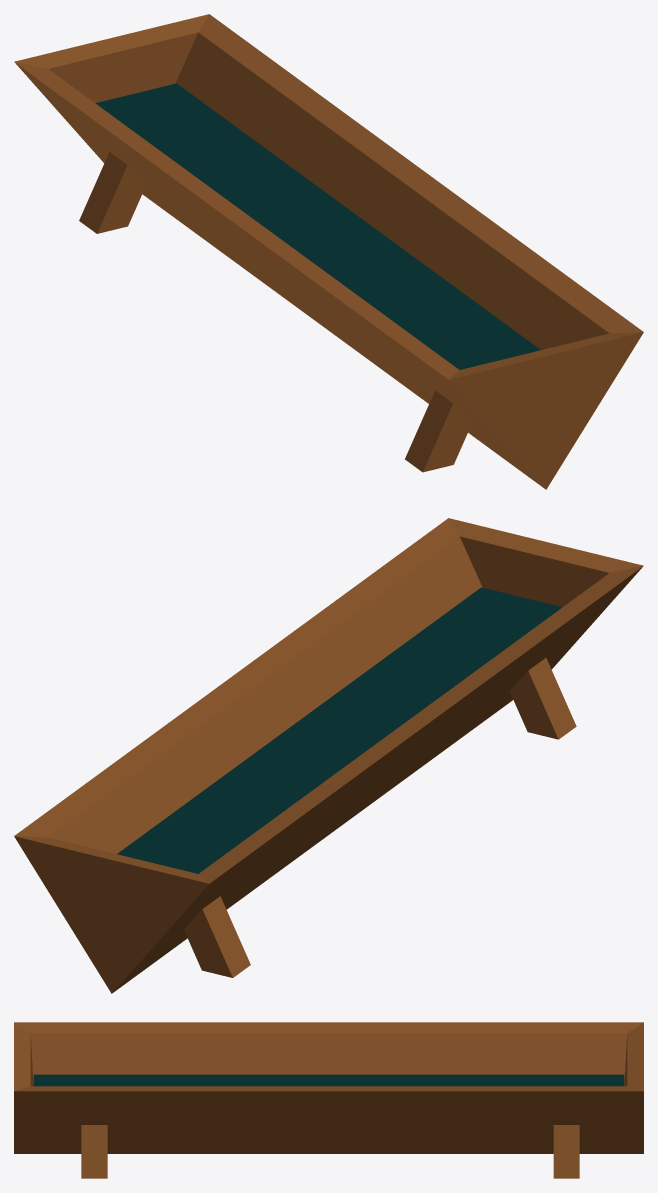
File: Trough.fbx
The picture shows the model from 3 angles, top to bottom: view 1: azimuth 30°, elevation 25°; view 2: azimuth 150°, elevation 25°; view 3: azimuth 270°, elevation 25°; orthographic projection. The views are drawn at different scales.
Visible parts, largest first — view 1: Cube.001; view 2: Cube.001; view 3: Cube.001.
Part boxes in pixels (x1,y1,x2,y2): Cube.001: (14,14,643,489); Cube.001: (14,518,643,993); Cube.001: (14,1022,643,1178).
Bounding box in the file's own units: 68.19 × 44.66 × 263.
